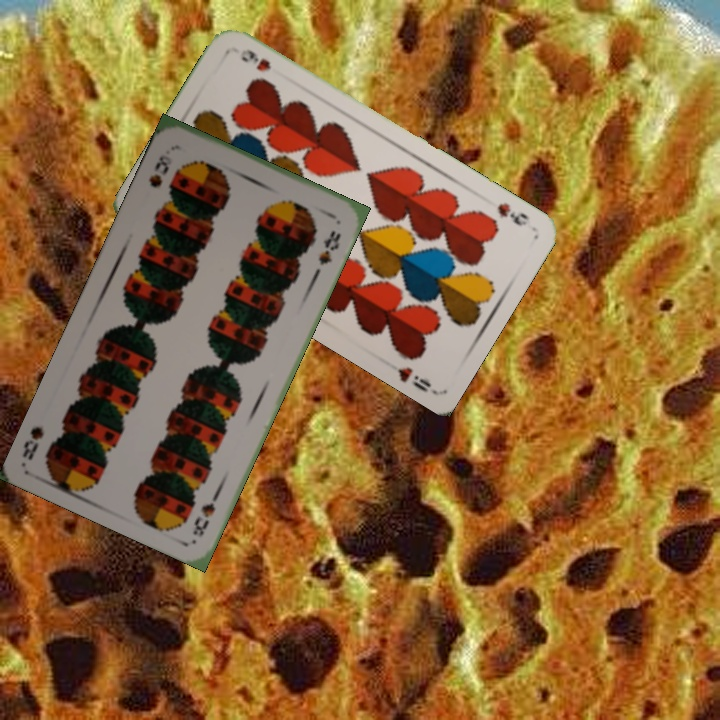H9: (492, 198, 532, 229)
S8: (188, 484, 224, 540), (144, 151, 172, 191)
